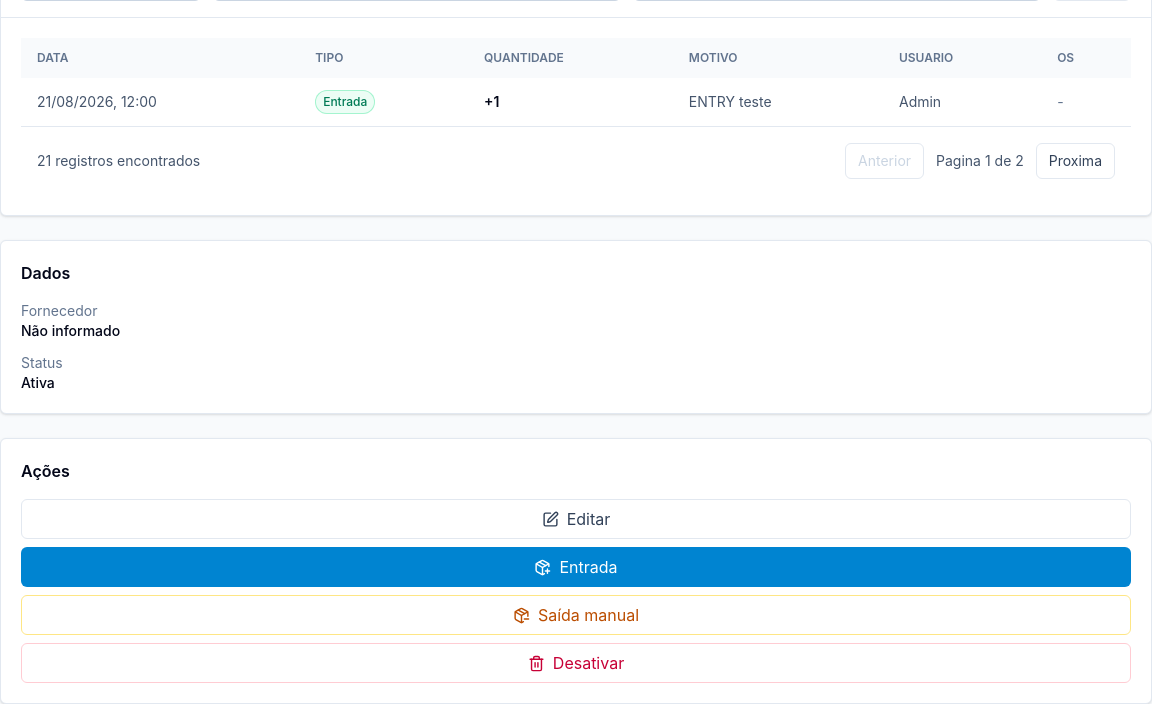
Test case: PartDetailPage reliable stock › invalidates part and history after a successful manual exit
(page scrolled)
Click the button "Saída manual". click: (576,615)
box: [21, 595, 1131, 635]
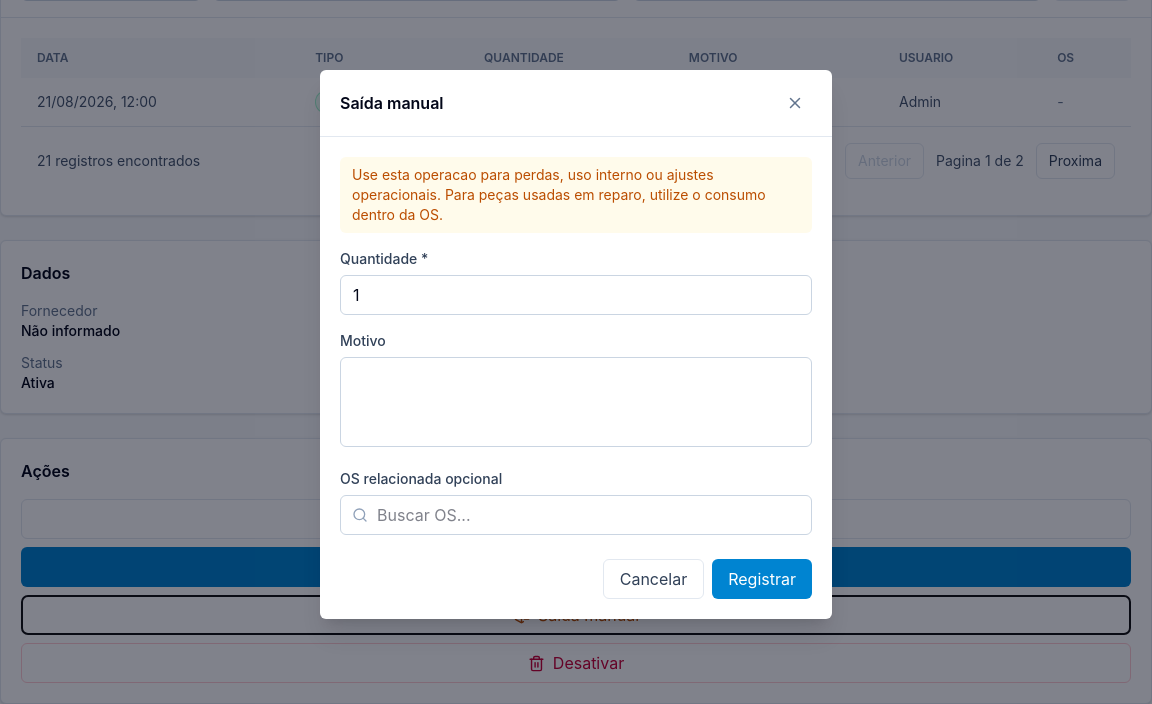
Click the button "Registrar". click: (762,578)
box: [712, 558, 812, 598]
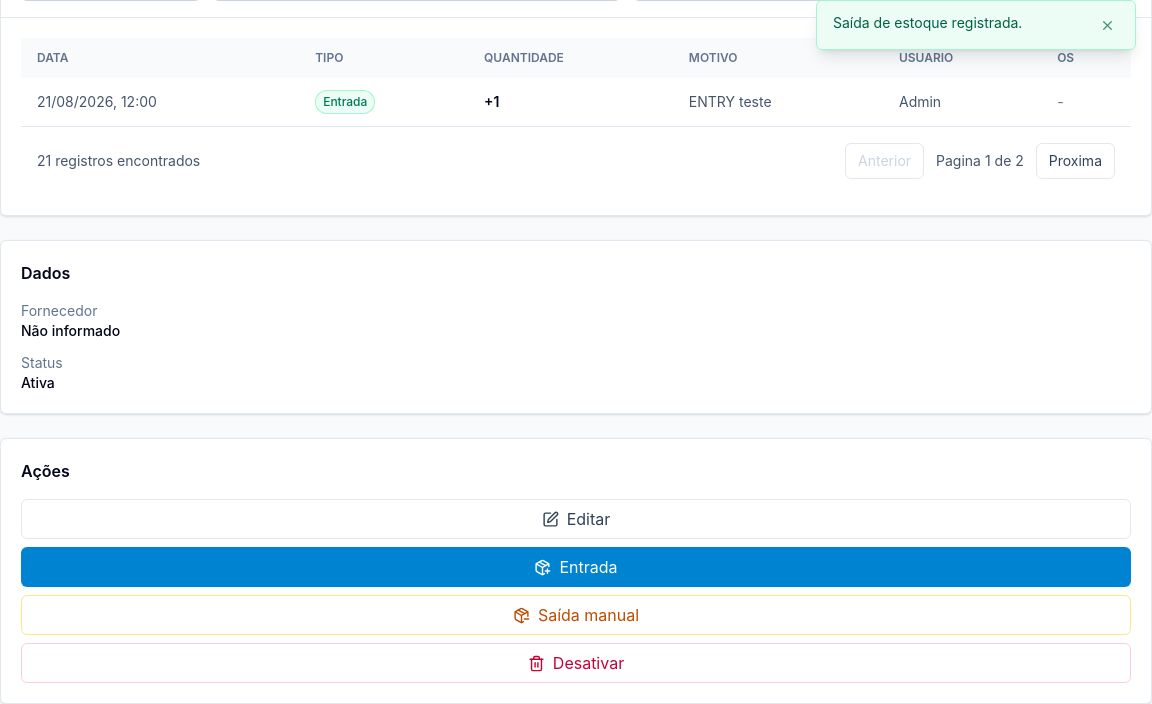
Now the dialog is gone
